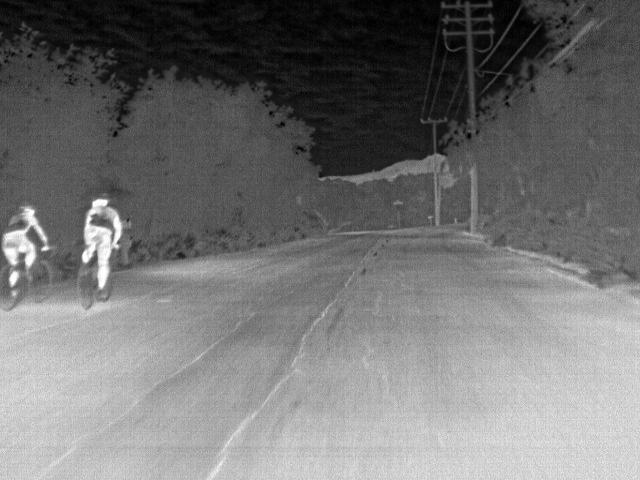person: (81, 190, 125, 292), (2, 202, 52, 270)
